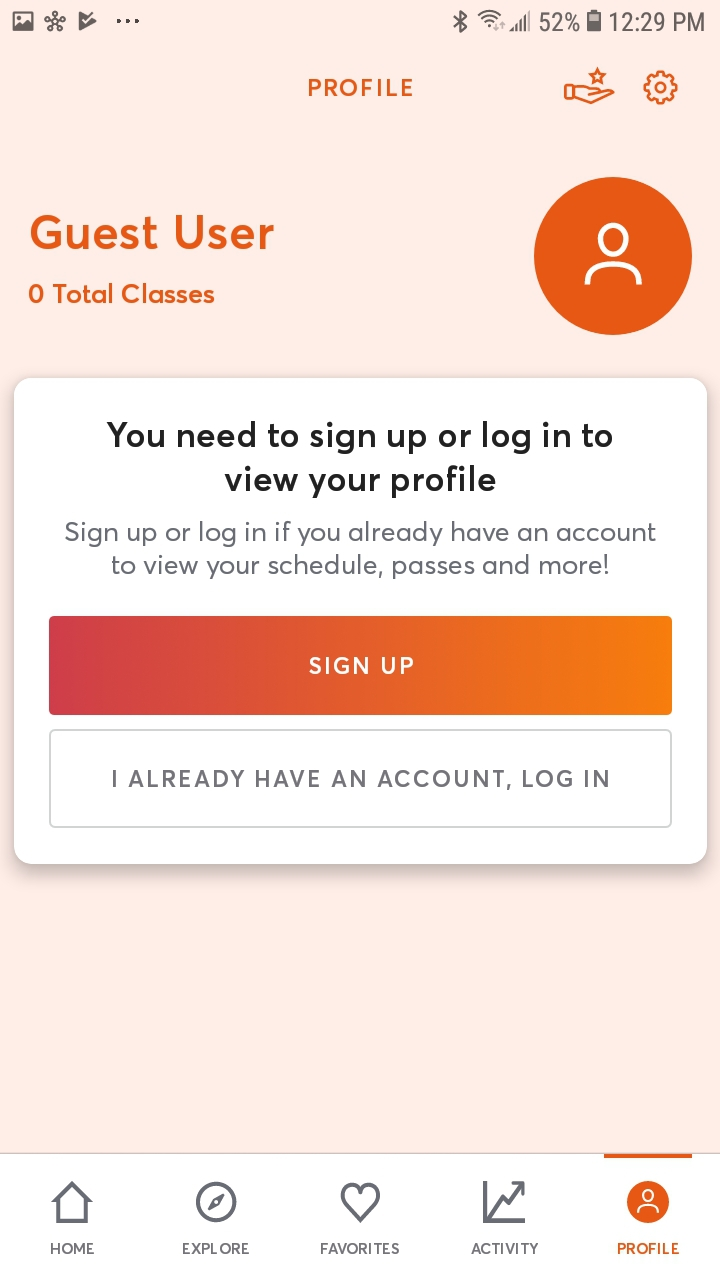Icon: (534, 178, 693, 336), (483, 1181, 526, 1224), (52, 1181, 94, 1224), (627, 1181, 669, 1223), (196, 1181, 238, 1223), (341, 1182, 381, 1223), (642, 71, 678, 106)
Image: (563, 67, 616, 106)
Text: (107, 421, 613, 499), (66, 521, 657, 581), (31, 215, 275, 251), (30, 283, 216, 305), (309, 79, 413, 98), (321, 1242, 400, 1255), (471, 1242, 538, 1255), (183, 1243, 250, 1255), (618, 1243, 680, 1255), (51, 1242, 95, 1254)
TextButton: (50, 616, 673, 716), (49, 729, 672, 828)
UpperTaskBar: (1, 1, 720, 34)
